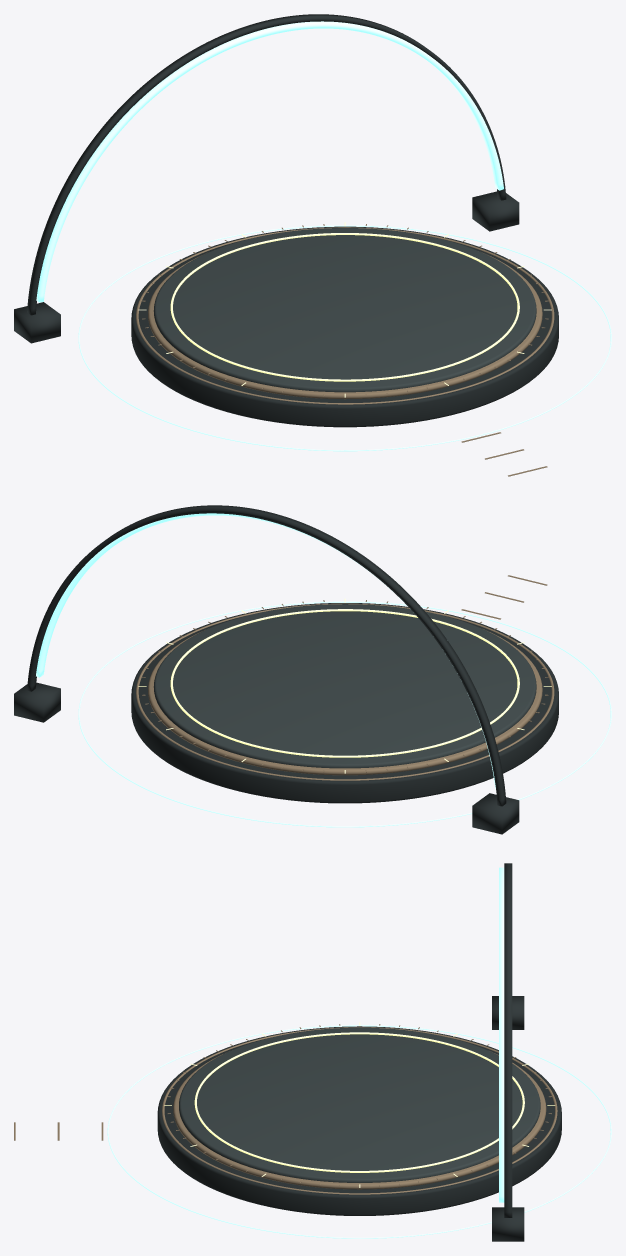
Rendered from stage.glb.
The picture shows the model from 3 angles, top to bottom: view 1: azimuth 30°, elevation 25°; view 2: azimuth 150°, elevation 25°; view 3: azimuth 270°, elevation 25°; orthographic projection. The views are drawn at different scales.
Visible parts, largest first — view 1: STAGE_Ceramic well, STAGE_Main housing, STAGE_Arch inset light, STAGE_Rear instrument arch, STAGE_Upper bevel, STAGE_Inner light aperture, STAGE_Cool floor halo, STAGE_Outer index rail, STAGE_Arch foot.001, STAGE_Arch foot; view 2: STAGE_Ceramic well, STAGE_Main housing, STAGE_Rear instrument arch, STAGE_Upper bevel, STAGE_Inner light aperture, STAGE_Outer index rail, STAGE_Cool floor halo, STAGE_Arch inset light, STAGE_Arch foot, STAGE_Arch foot.001; view 3: STAGE_Ceramic well, STAGE_Main housing, STAGE_Upper bevel, STAGE_Rear instrument arch, STAGE_Arch inset light, STAGE_Inner light aperture, STAGE_Cool floor halo, STAGE_Outer index rail, STAGE_Arch foot.001, STAGE_Arch foot.
Part boxes in pixels (<box>): STAGE_Ceramic well: <box>153,228,536,392</box>; STAGE_Main housing: <box>131,226,558,427</box>; STAGE_Arch inset light: <box>36,21,503,302</box>; STAGE_Rear instrument arch: <box>27,14,506,315</box>; STAGE_Upper bevel: <box>148,252,542,399</box>; STAGE_Inner light aperture: <box>170,233,519,381</box>; STAGE_Cool floor halo: <box>78,225,611,451</box>; STAGE_Outer index rail: <box>136,227,554,404</box>; STAGE_Arch foot.001: <box>472,191,519,231</box>; STAGE_Arch foot: <box>14,302,60,343</box>; STAGE_Ceramic well: <box>153,604,536,768</box>; STAGE_Main housing: <box>131,603,558,803</box>; STAGE_Rear instrument arch: <box>27,505,506,806</box>; STAGE_Upper bevel: <box>148,628,542,775</box>; STAGE_Inner light aperture: <box>170,609,519,757</box>; STAGE_Outer index rail: <box>136,603,554,780</box>; STAGE_Cool floor halo: <box>78,601,611,827</box>; STAGE_Arch inset light: <box>36,513,495,788</box>; STAGE_Arch foot: <box>472,793,519,834</box>; STAGE_Arch foot.001: <box>14,682,60,722</box>; STAGE_Ceramic well: <box>179,1027,540,1182</box>; STAGE_Main housing: <box>157,1026,561,1215</box>; STAGE_Upper bevel: <box>173,1051,546,1189</box>; STAGE_Rear instrument arch: <box>504,863,512,1217</box>; STAGE_Arch inset light: <box>499,867,504,1202</box>; STAGE_Inner light aperture: <box>194,1032,524,1172</box>; STAGE_Cool floor halo: <box>107,1025,611,1238</box>; STAGE_Outer index rail: <box>162,1027,557,1194</box>; STAGE_Arch foot.001: <box>492,1207,524,1241</box>; STAGE_Arch foot: <box>492,996,524,1029</box>.
Size of what is drawn, in the model's own units: 3.77 by 1.91 by 4.23.
